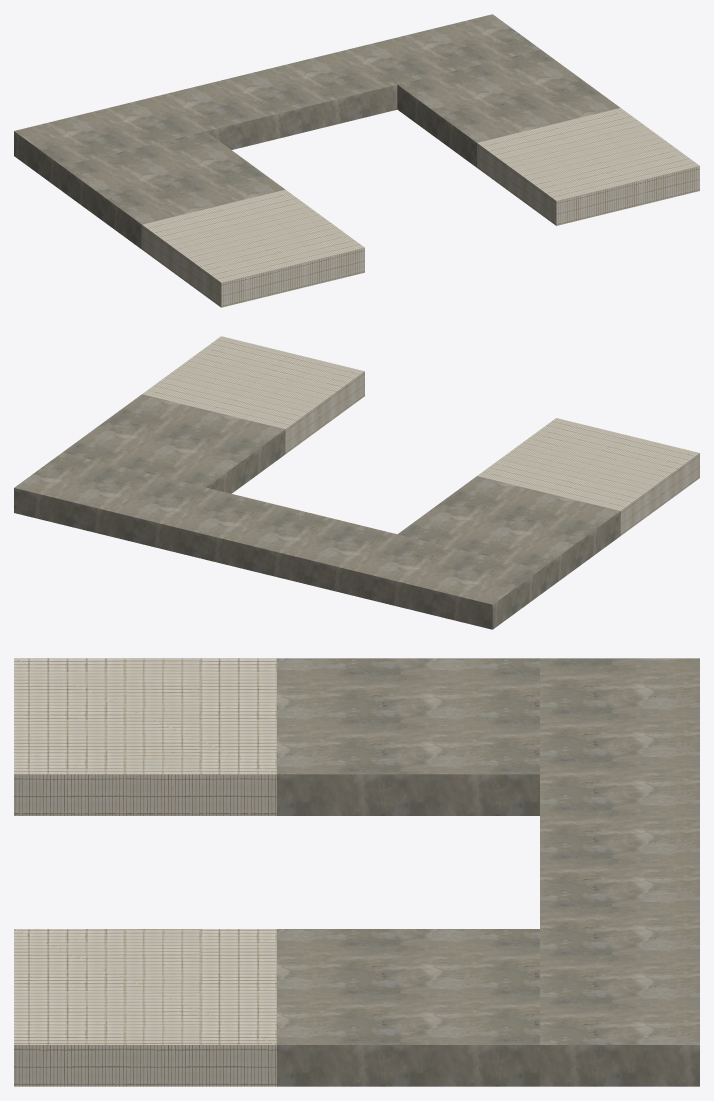
File: wall_door.glb
The picture shows the model from 3 angles, top to bottom: view 1: azimuth 30°, elevation 25°; view 2: azimuth 150°, elevation 25°; view 3: azimuth 270°, elevation 25°; orthographic projection. The views are drawn at different scales.
Visible parts, largest first — view 1: wall_door; view 2: wall_door; view 3: wall_door.
Boxes of the visible parts, x1,y1,x2,y2 form: wall_door: (14,14,699,307); wall_door: (14,336,699,629); wall_door: (14,658,699,1086).
Bounding box in the file's own units: 4 × 0.2 × 3.
Materials: 2 (2 with a texture image).
